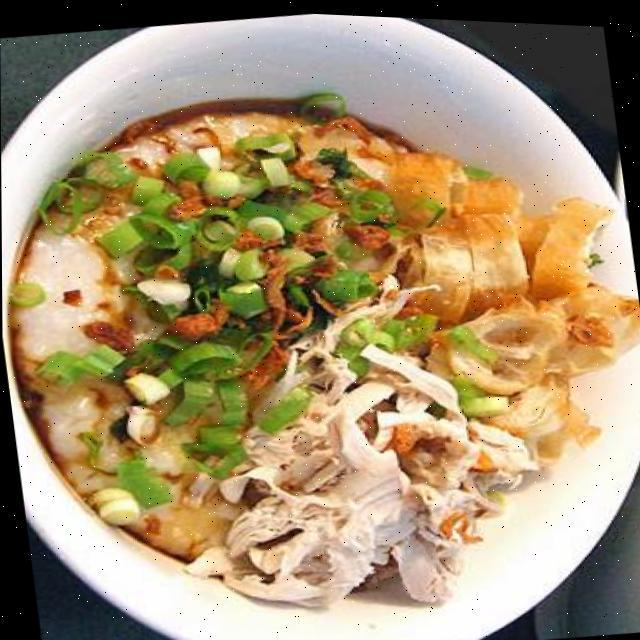bubur ayam: (0, 41, 640, 640)
mangkuk: (0, 0, 640, 640)
